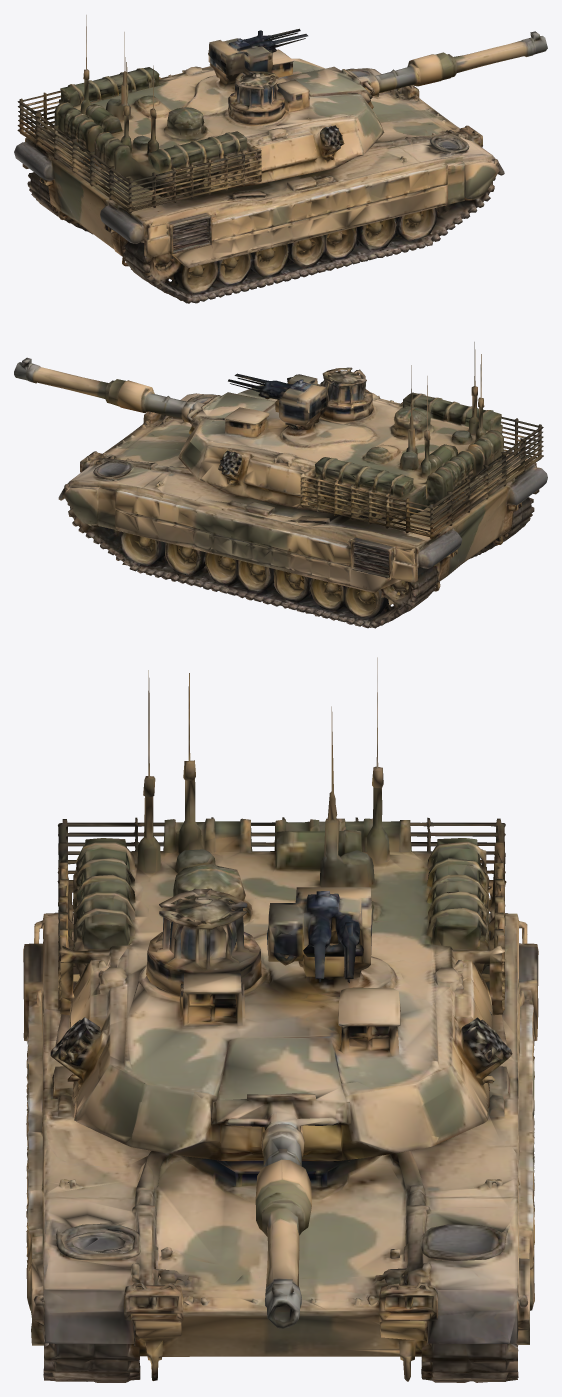
File: tank_sep.glb
3 renders of one model, top to bottom at view 1: azimuth 30°, elevation 25°; view 2: azimuth 150°, elevation 25°; view 3: azimuth 270°, elevation 25°, orthographic. The views are drawn at different scales.
Parts seen in each view (by area): view 1: node_0; view 2: node_0; view 3: node_0.
Part boxes in pixels (x1=…): node_0: x1=14, y1=15, x2=547, y2=303; node_0: x1=14, y1=342, x2=547, y2=628; node_0: x1=23, y1=657, x2=538, y2=1382.
Size of the model in its own units: 1.1 by 0.5235 by 0.518.
1 material, 1 textured.
